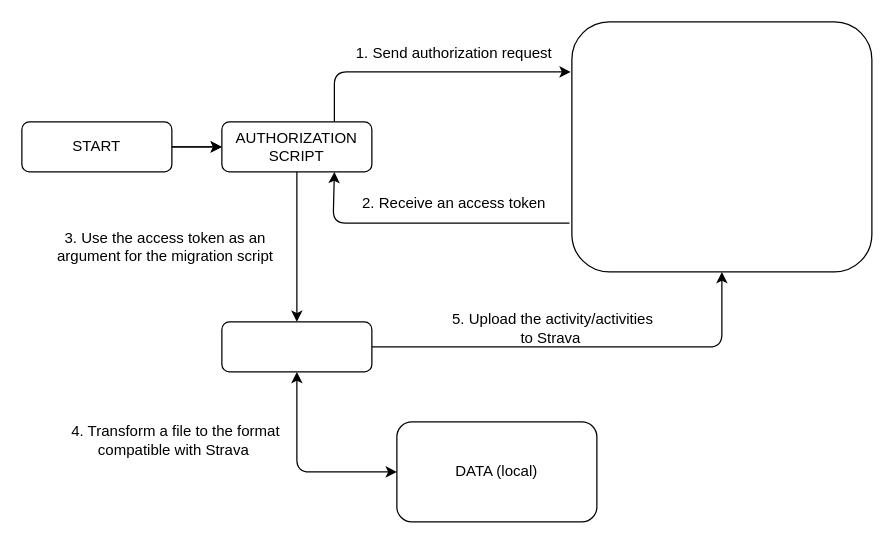
Image size: 894x544. Some labels were removed from this diagram. Here are the shapes that lost their labels. From the top down, the centre of each, then its label:
At (721,146): "STRAVA".
At (296,346): "MIGRATION SCRIPT".
